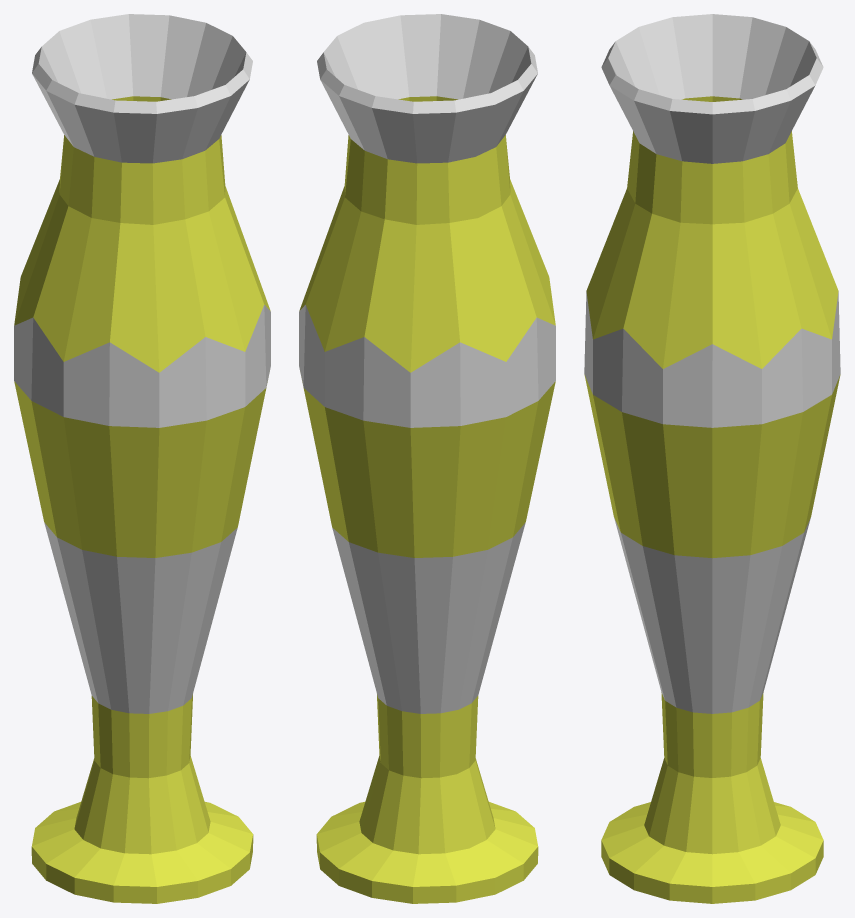
Rendered from Vase_L_1.fbx.
3 views of the same model, side by side, from view 1: azimuth 30°, elevation 25°; view 2: azimuth 150°, elevation 25°; view 3: azimuth 270°, elevation 25° (orthographic).
Parts seen in each view (by area): view 1: Vase_L_1; view 2: Vase_L_1; view 3: Vase_L_1.
Part boxes in pixels (box(x1,y1,x2,y2)): Vase_L_1: box(14, 14, 270, 903); Vase_L_1: box(299, 14, 555, 903); Vase_L_1: box(584, 14, 840, 903).
Size of the model in its own units: 0.1675 by 0.576 by 0.1675.
